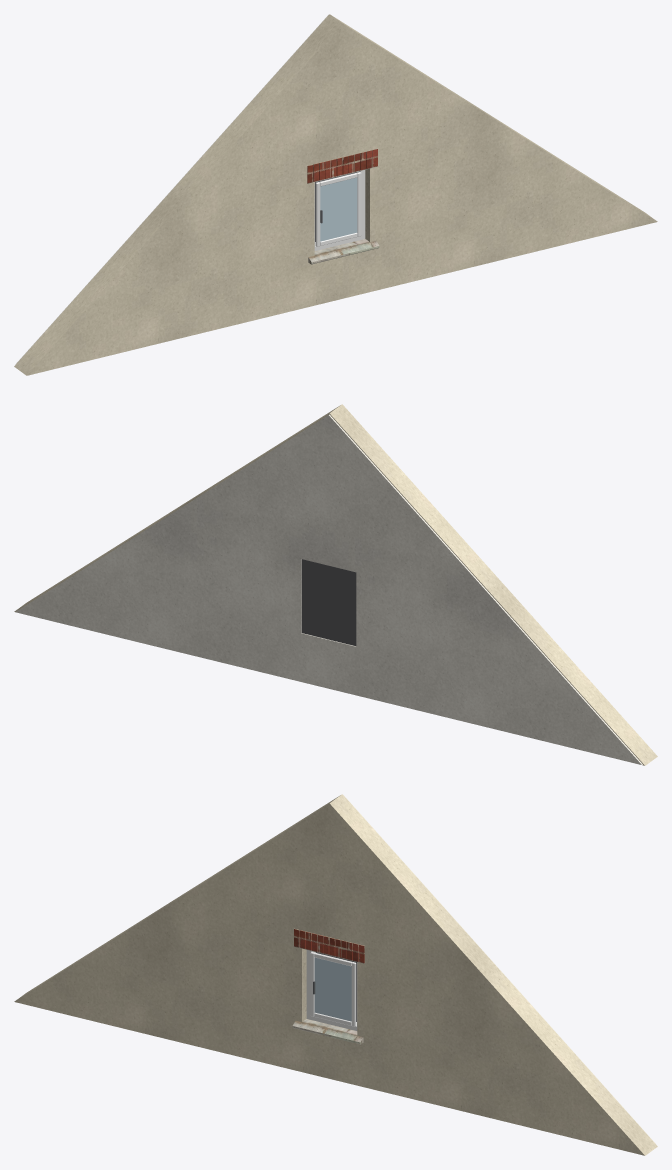
Rendered from gable_front.glb.
3 views of the same model, one above another, from view 1: azimuth 30°, elevation 25°; view 2: azimuth 150°, elevation 25°; view 3: azimuth 330°, elevation 25° (orthographic).
Parts seen in each view (by area): view 1: gable_front_render, gable_front_glass, gable_front_brick, gable_front_sash, gable_front_cill, gable_front_frame; view 2: gable_front_plaster, gable_front_render, gable_front_dark; view 3: gable_front_render, gable_front_glass, gable_front_brick, gable_front_sash, gable_front_cill, gable_front_frame.
Part boxes in pixels (x1,y1,x2,y2): gable_front_render: (14,14,657,375); gable_front_glass: (320,177,357,241); gable_front_brick: (307,148,377,183); gable_front_sash: (315,172,361,246); gable_front_cill: (307,166,379,264); gable_front_frame: (314,170,365,250); gable_front_plaster: (15,414,642,764); gable_front_render: (14,404,657,765); gable_front_dark: (301,559,356,645); gable_front_render: (14,794,657,1155); gable_front_glass: (314,957,351,1021); gable_front_brick: (294,928,364,963); gable_front_sash: (310,952,356,1026); gable_front_cill: (292,946,364,1044); gable_front_frame: (306,950,357,1030).
Size of the model in its own units: 8 by 3.34 by 0.37.
Materials: 9 (4 with a texture image).
